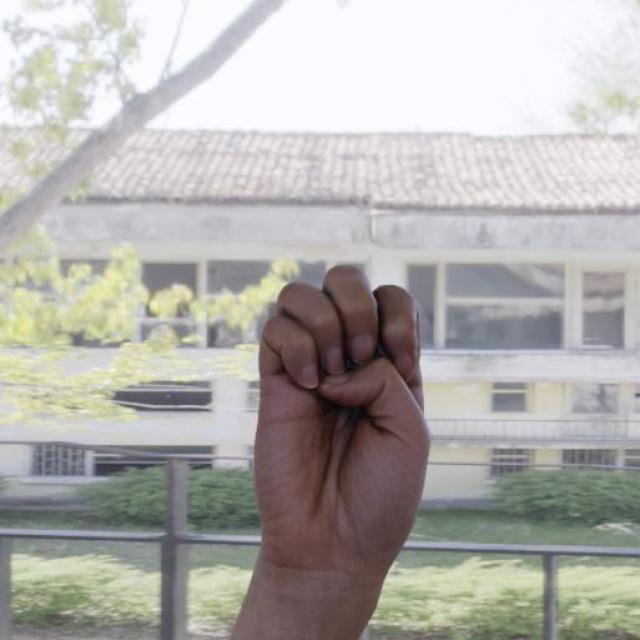E: (252, 259, 432, 582)
